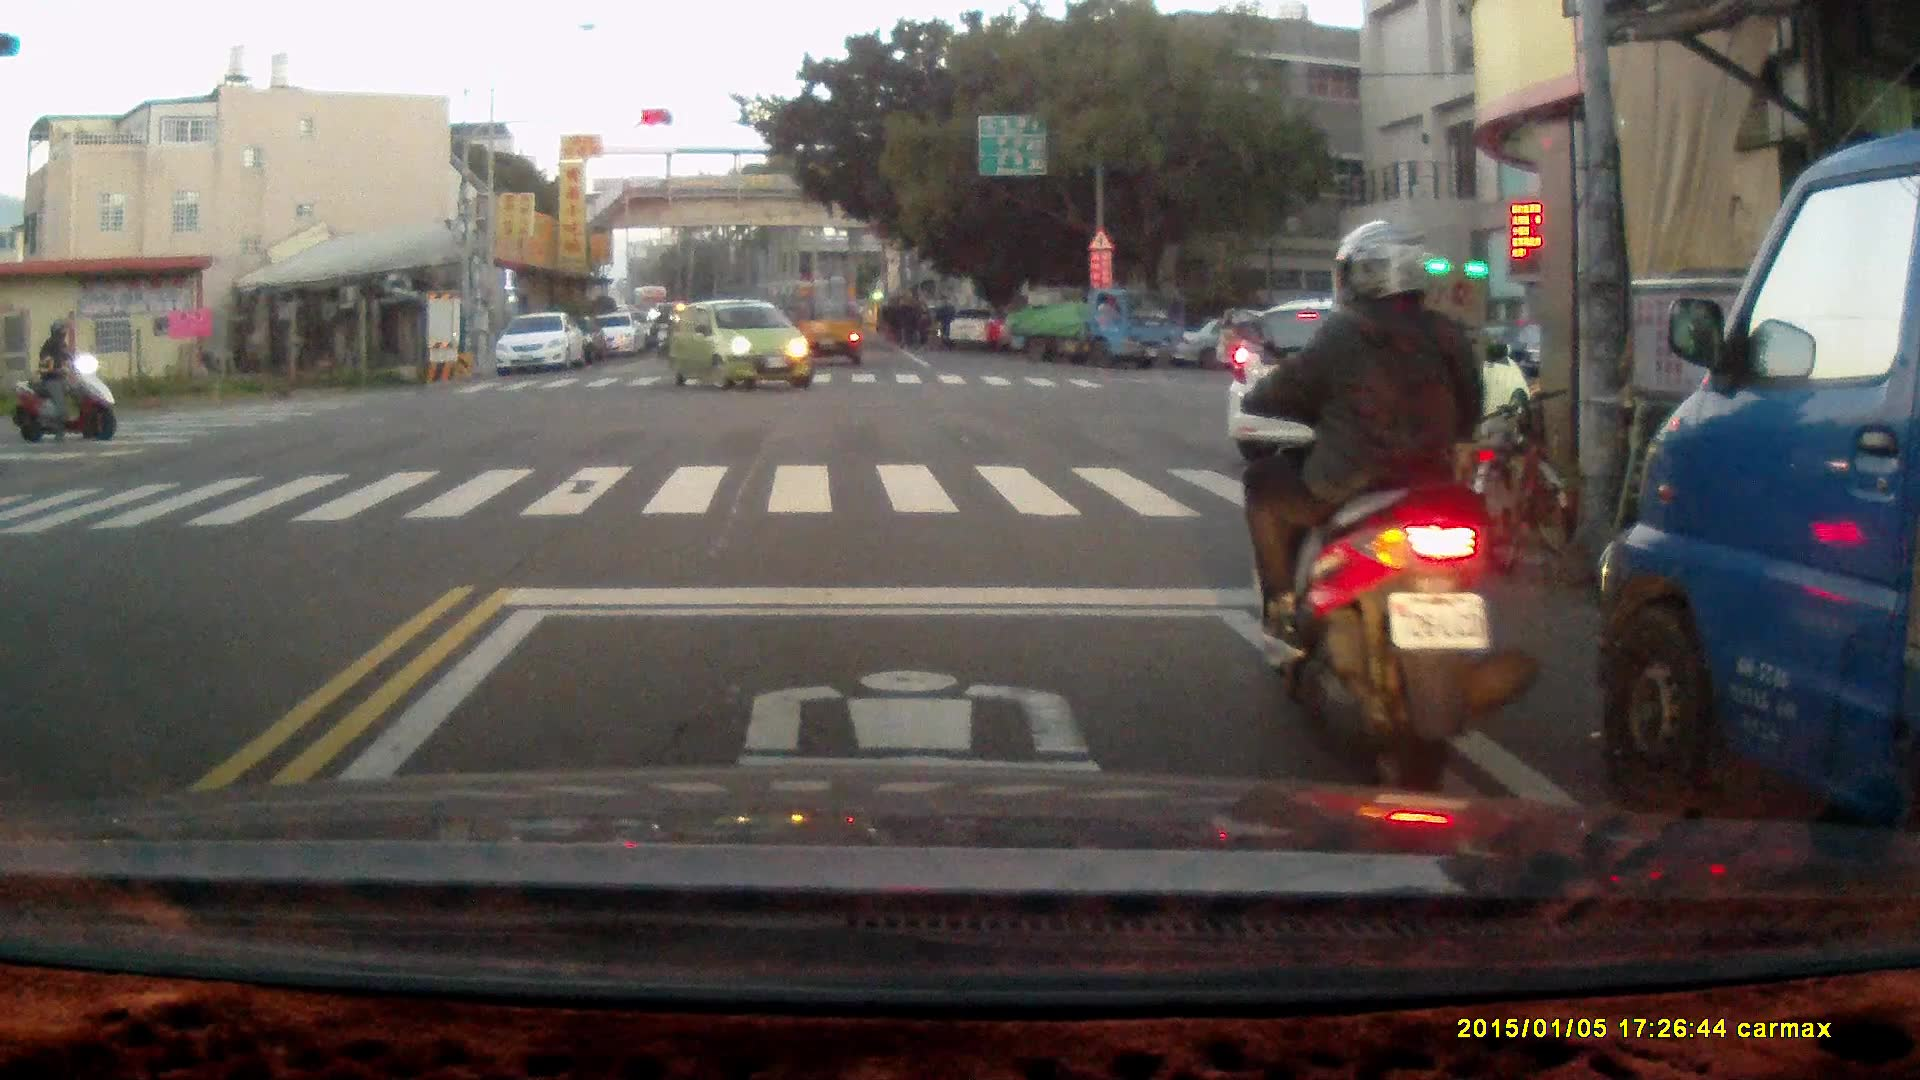rider: (1232, 214, 1542, 789), (10, 317, 119, 440), (651, 308, 676, 360)
vehicle: (1600, 132, 1920, 921), (1215, 294, 1526, 464), (1002, 284, 1176, 367), (669, 295, 811, 396), (784, 269, 867, 371), (496, 313, 587, 377), (592, 311, 642, 360)
